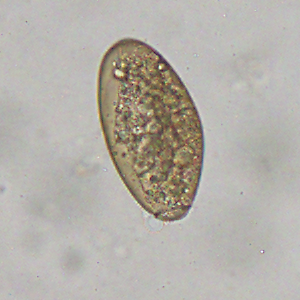Fasciola_hepatica_egg: (96, 35, 206, 223)
